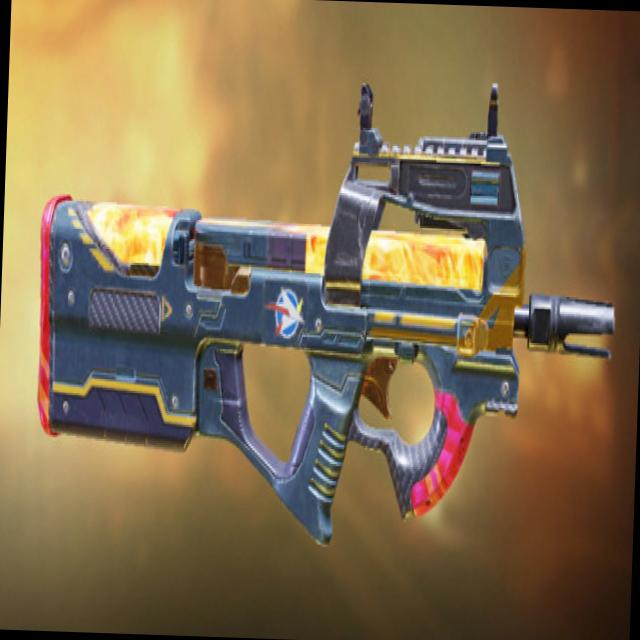Weapon: (22, 62, 626, 560)
